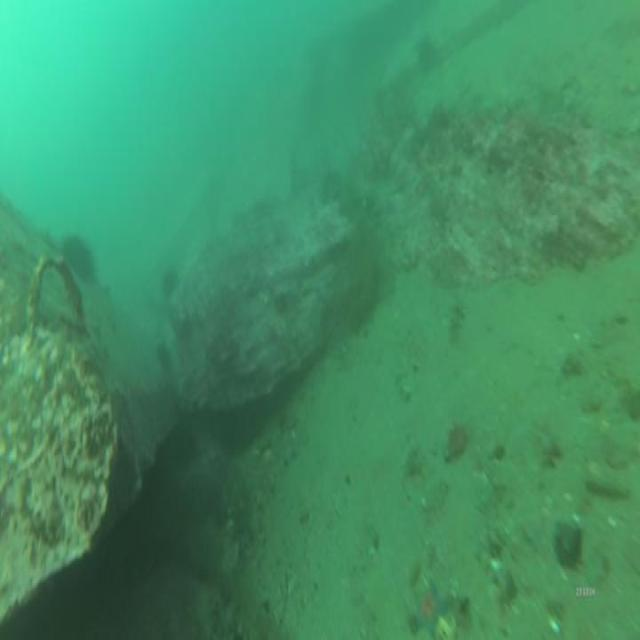echinus: (62, 226, 94, 292)
starfish: (412, 578, 452, 637), (413, 30, 440, 71)
